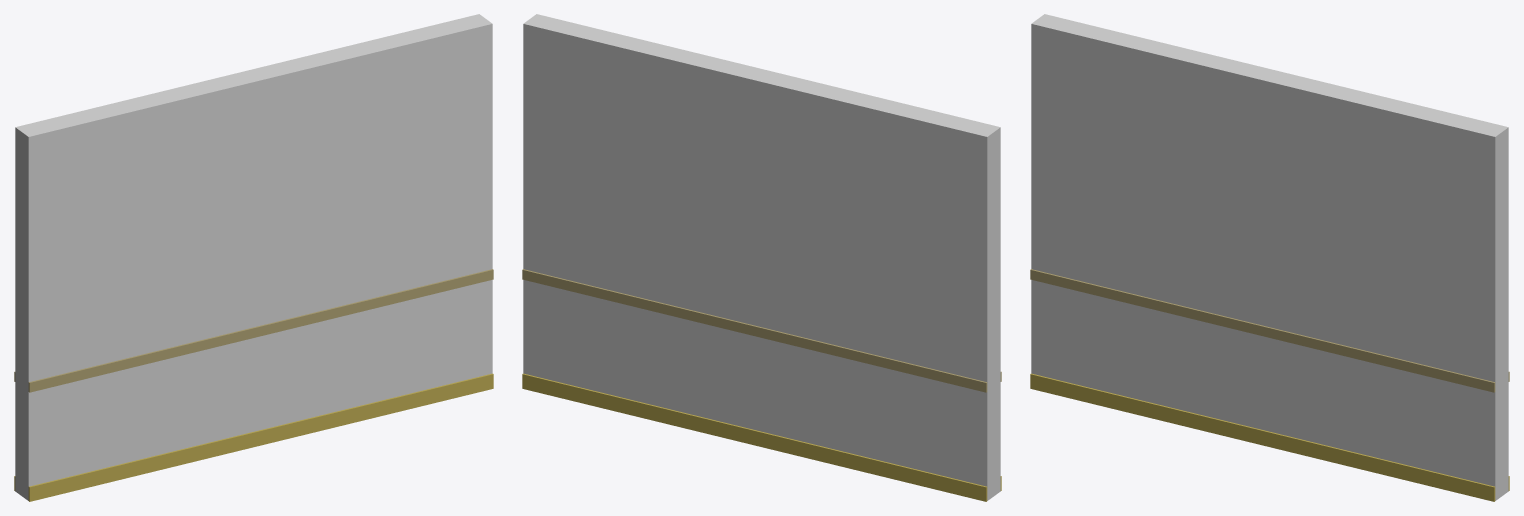
The model's file is MOD_25_Corridor_Wide.fbx.
3 renders of one model, left to right at view 1: azimuth 30°, elevation 25°; view 2: azimuth 150°, elevation 25°; view 3: azimuth 330°, elevation 25°, orthographic.
Visible parts, largest first — view 1: MOD_25_Corridor_Wide; view 2: MOD_25_Corridor_Wide; view 3: MOD_25_Corridor_Wide.
Part boxes in pixels (x1,y1,x2,y2): MOD_25_Corridor_Wide: (14,14,493,501); MOD_25_Corridor_Wide: (522,14,1001,501); MOD_25_Corridor_Wide: (1030,14,1509,501).
Bounding box in the file's own units: 4 × 3 × 0.23.
